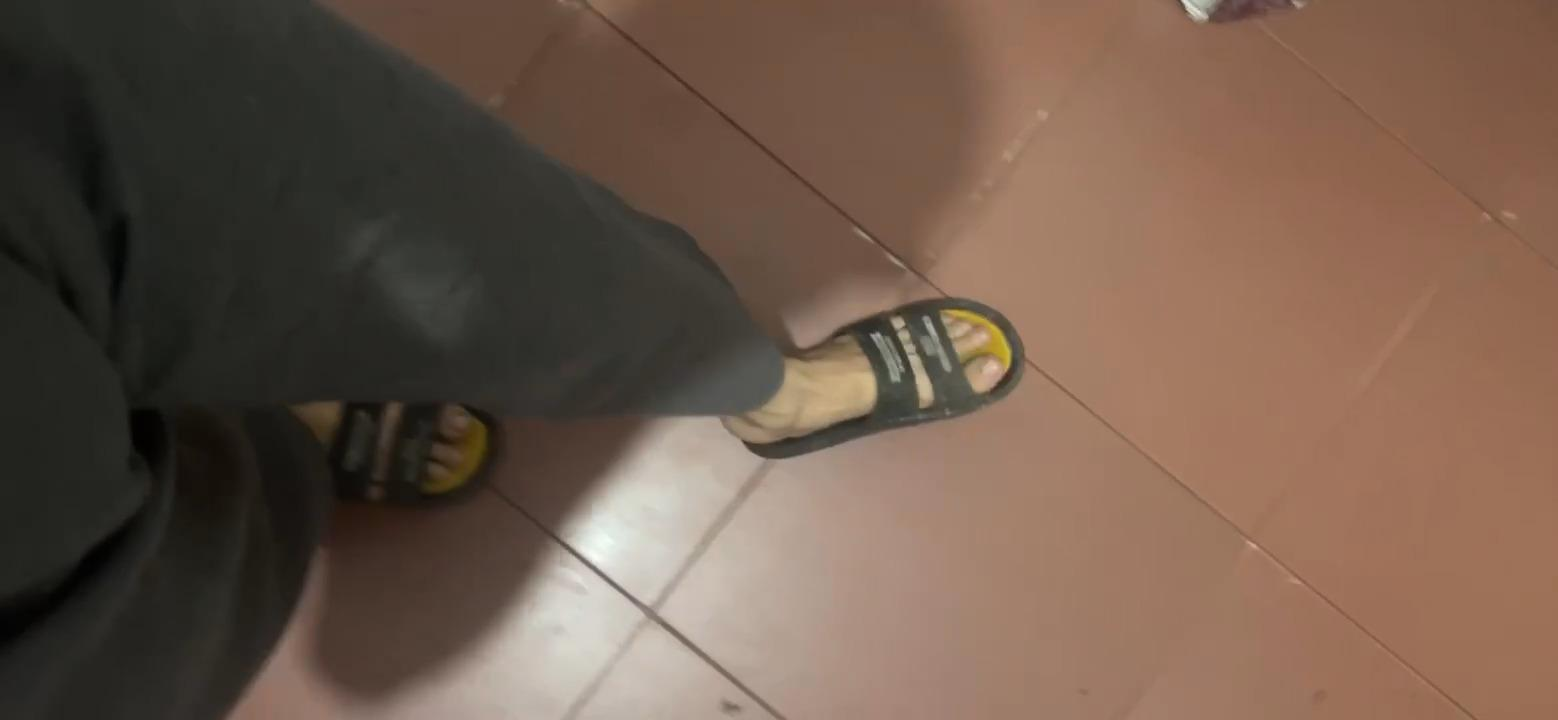no-boot: (733, 293, 1018, 446), (279, 369, 515, 511)
